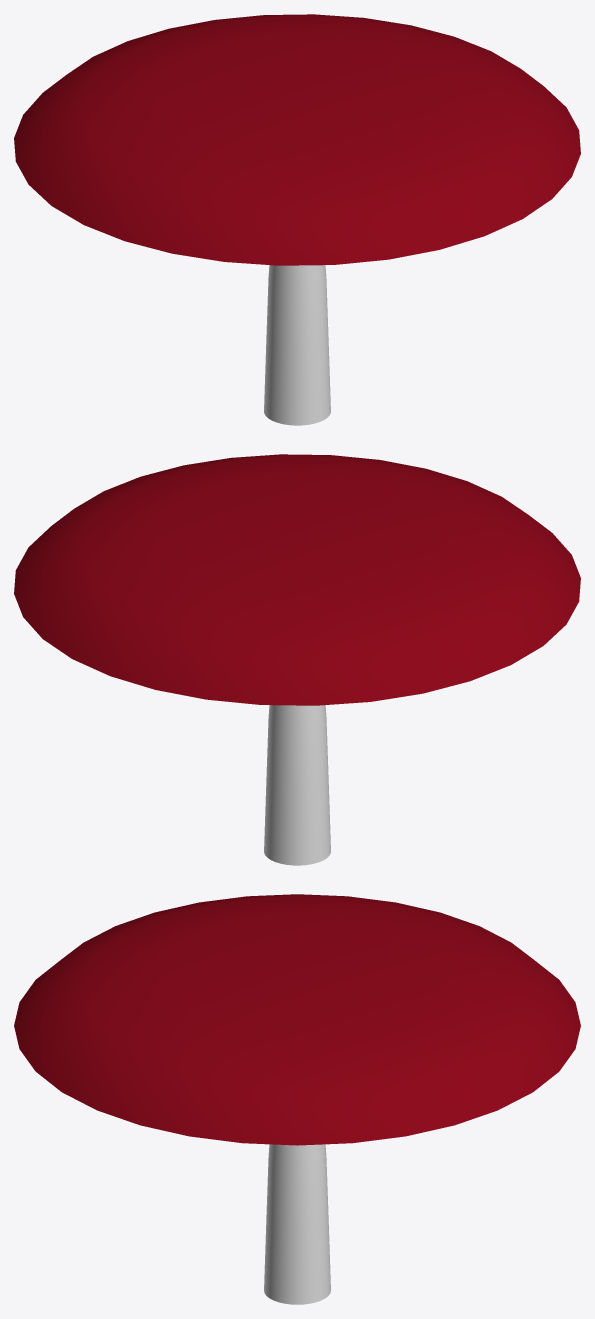
Rendered from Hongo1.fbx.
The picture shows the model from 3 angles, top to bottom: view 1: azimuth 30°, elevation 25°; view 2: azimuth 150°, elevation 25°; view 3: azimuth 270°, elevation 25°; orthographic projection.
Parts seen in each view (by area): view 1: Cylinder; view 2: Cylinder; view 3: Cylinder.
Part boxes in pixels (bbox=[...]): Cylinder: bbox=[14, 14, 580, 425]; Cylinder: bbox=[14, 454, 580, 865]; Cylinder: bbox=[14, 894, 580, 1304].
Size of the model in its own units: 14.66 by 9.02 by 14.66.
